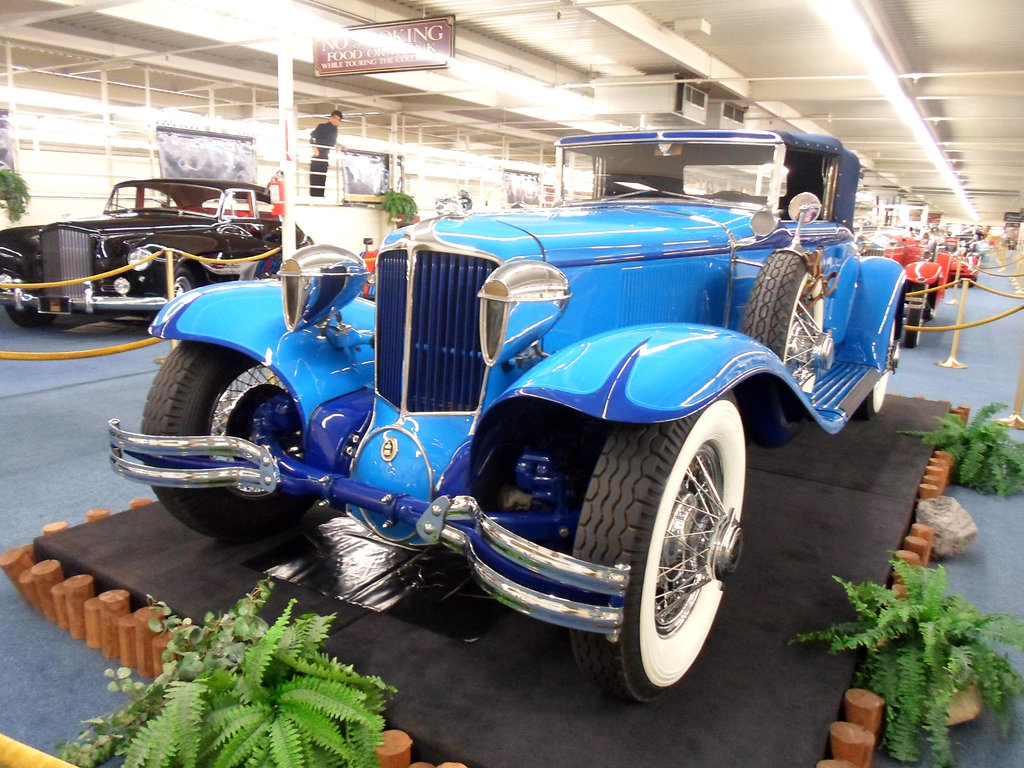Car: (103, 129, 912, 704), (0, 177, 312, 330), (848, 201, 952, 348), (930, 223, 984, 290)
